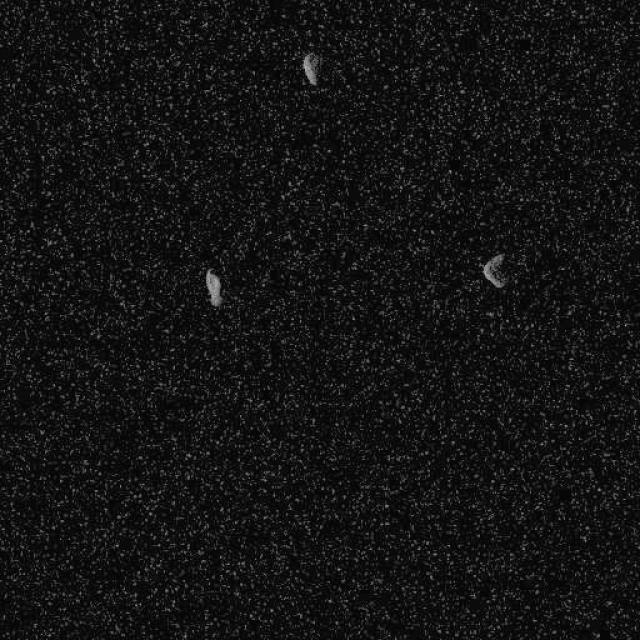D2: (481, 251, 510, 289), (204, 268, 224, 308), (301, 52, 321, 86)
